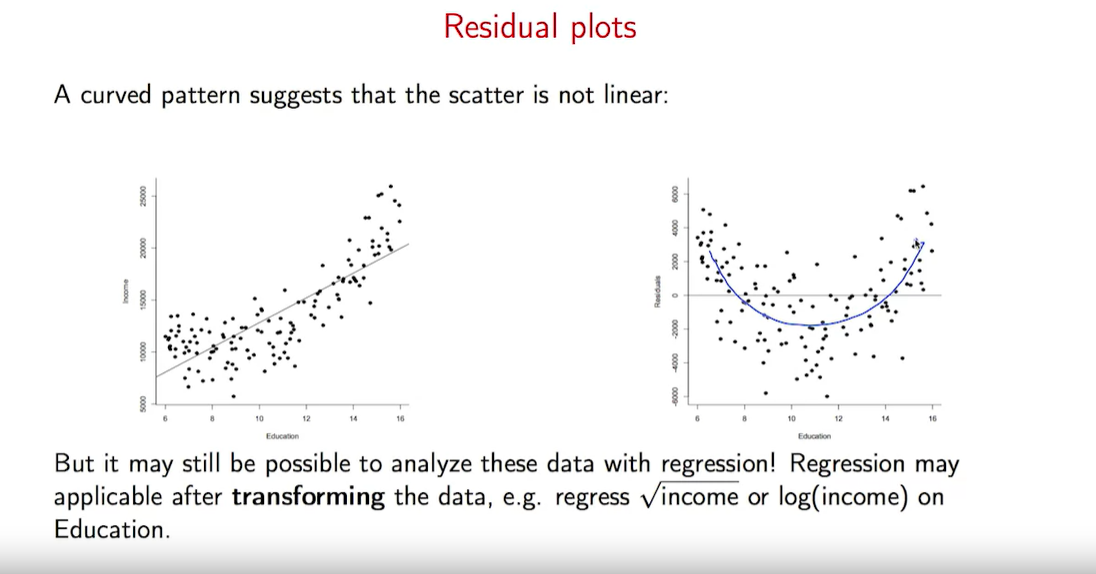figure: (112, 168, 422, 444), (639, 168, 948, 444)
text: (52, 451, 960, 543), (48, 82, 675, 112), (444, 8, 638, 47)
